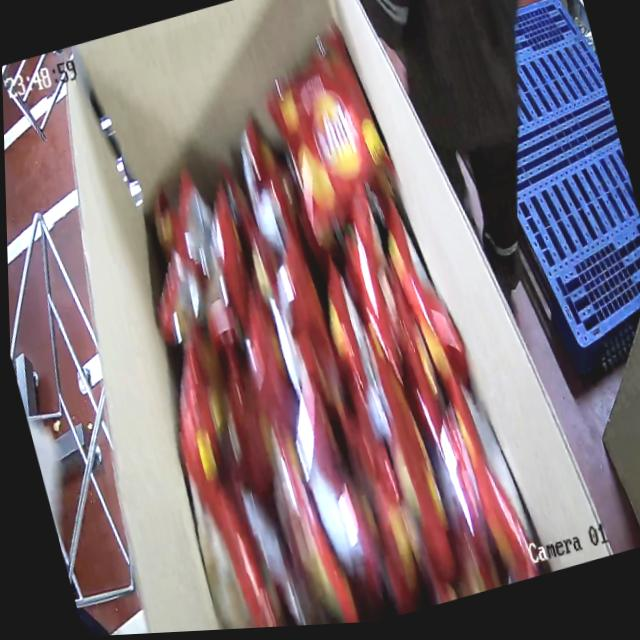MASALA: (101, 65, 534, 635)
